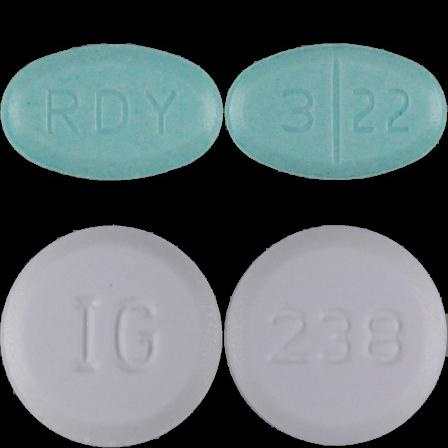60760-230: (0, 0, 224, 224)
